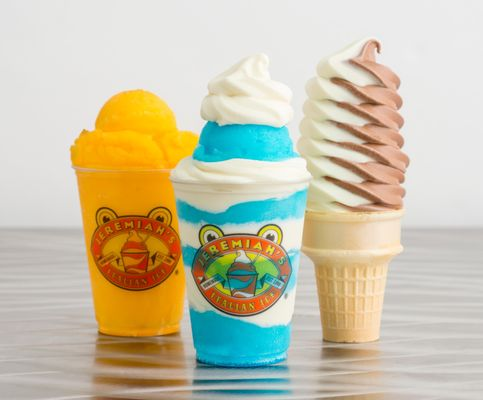pizza: (301, 207, 405, 345)
